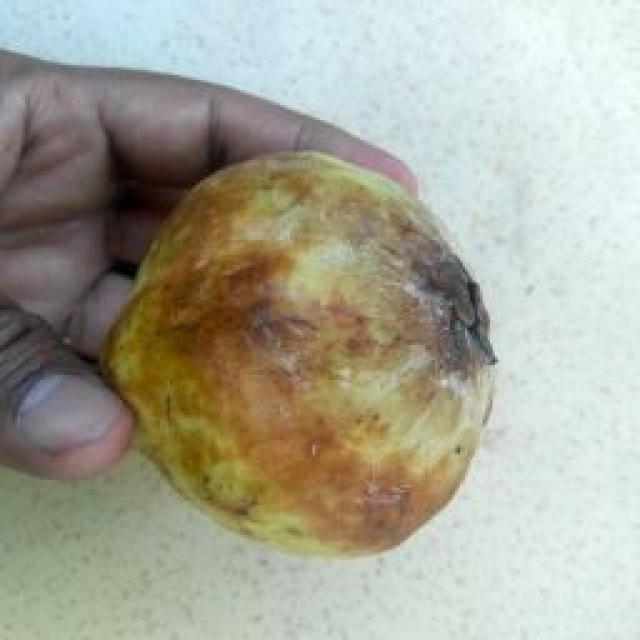Bad_Guava: (102, 154, 492, 553)
